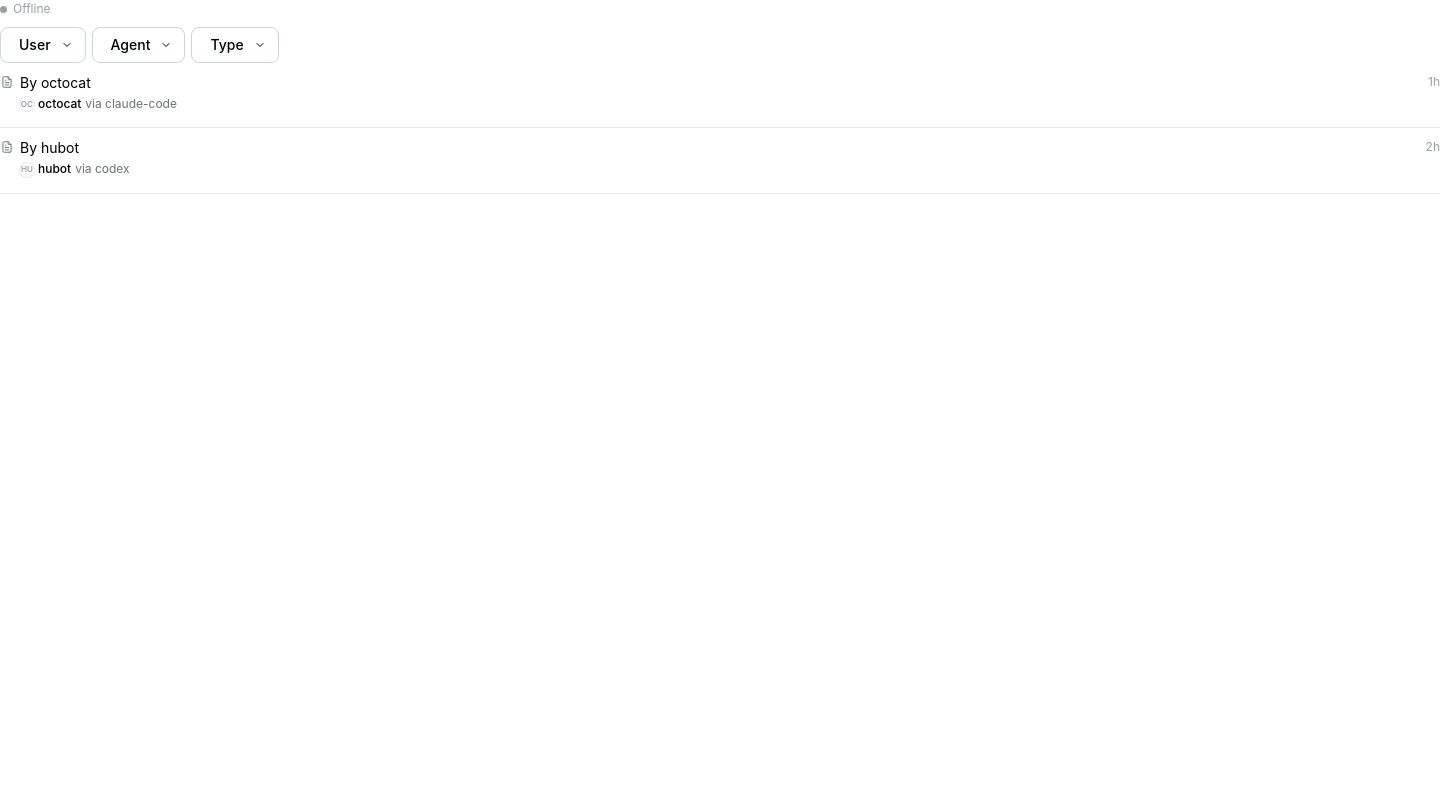
Scenario: attribution › activity feed: user filter
Click the button "User". click: (43,45)
box: left=0, top=27, right=86, bottom=63
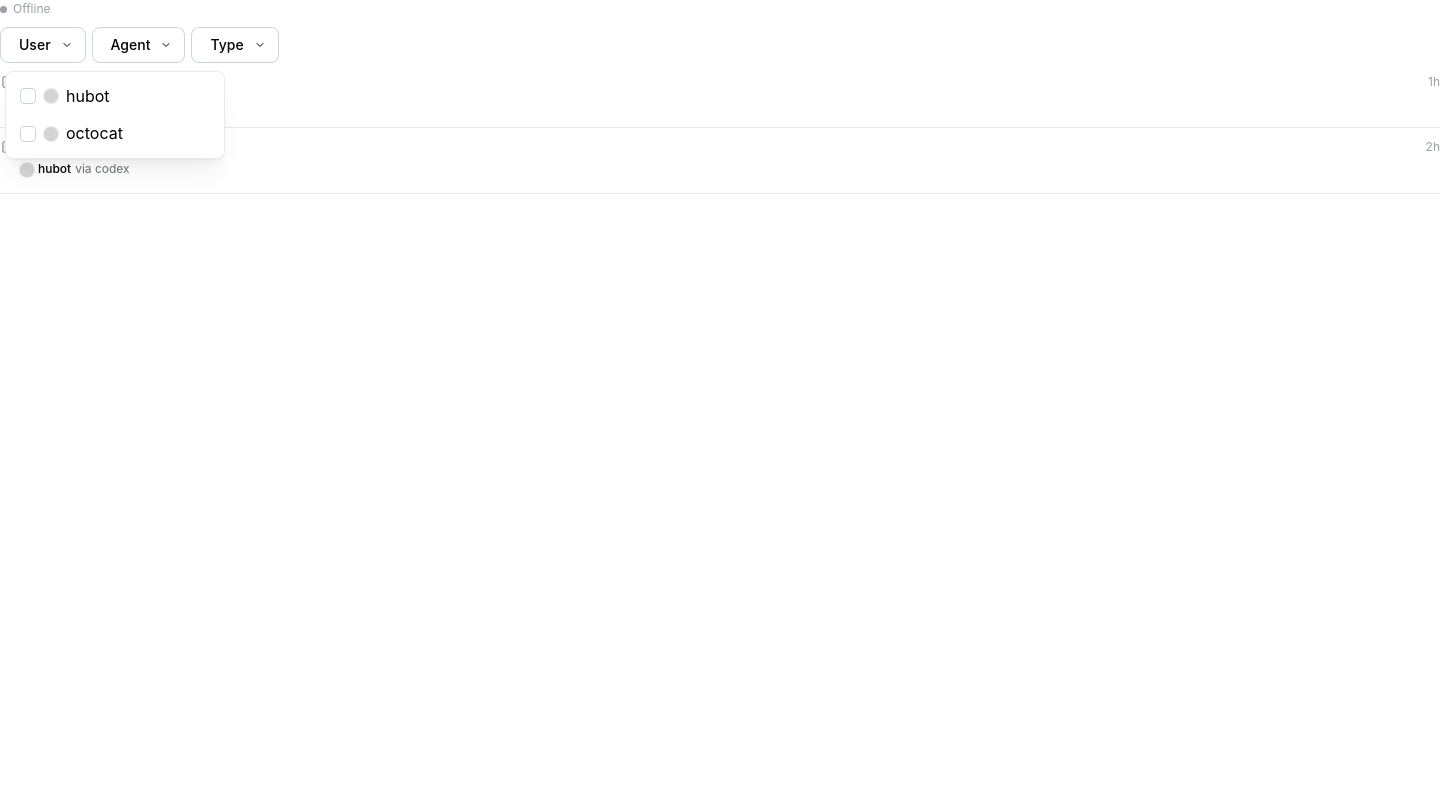
Click the button "octocat". click: (115,134)
box: left=12, top=115, right=218, bottom=152
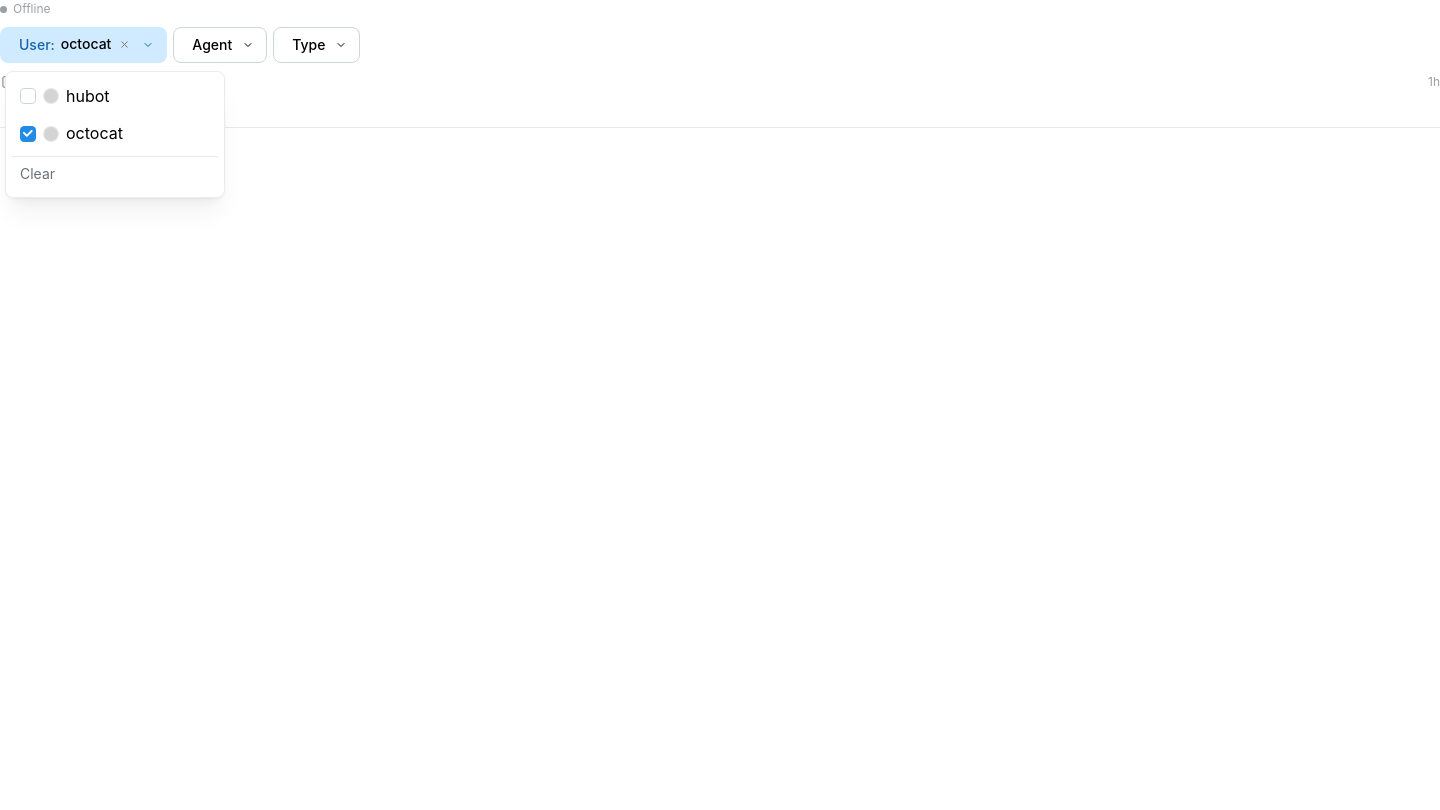
Check: the text "By octocat" is shown, box left=20, top=74, right=91, bottom=91
Check: the text "By hubot" is gone
